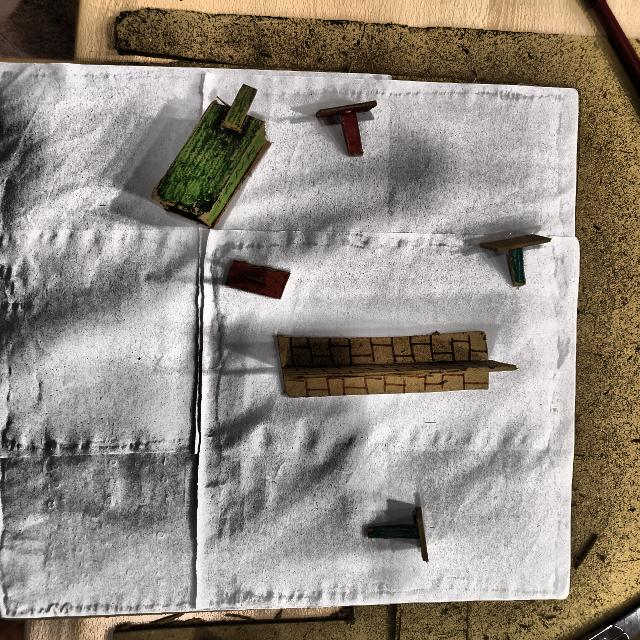Dead soldier -enemy-: (314, 99, 383, 160)
Dead soldier -frd-: (361, 499, 437, 563), (480, 232, 560, 291)
Tank: (150, 85, 271, 231)
Wall: (277, 331, 512, 399)
enemy: (219, 259, 291, 302)
